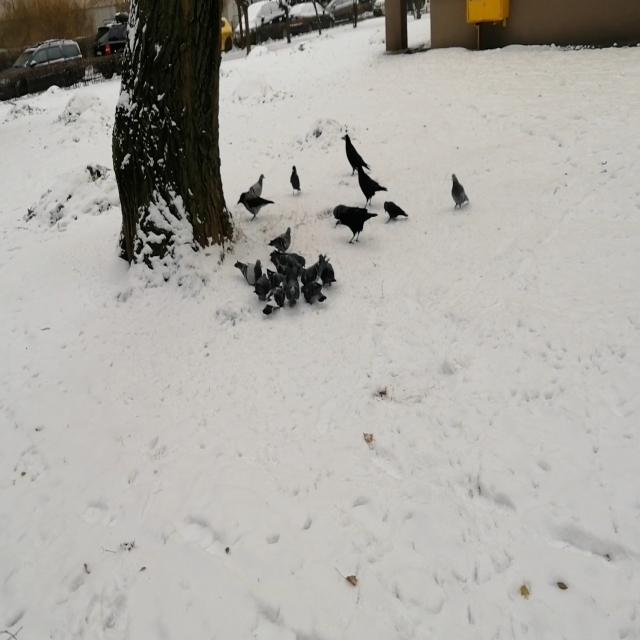bird: (238, 193, 274, 220), (263, 282, 286, 316), (235, 260, 263, 284), (451, 173, 469, 210), (269, 226, 291, 252), (319, 255, 336, 288), (300, 260, 325, 282), (300, 286, 326, 304), (286, 278, 300, 306), (250, 174, 264, 196)
